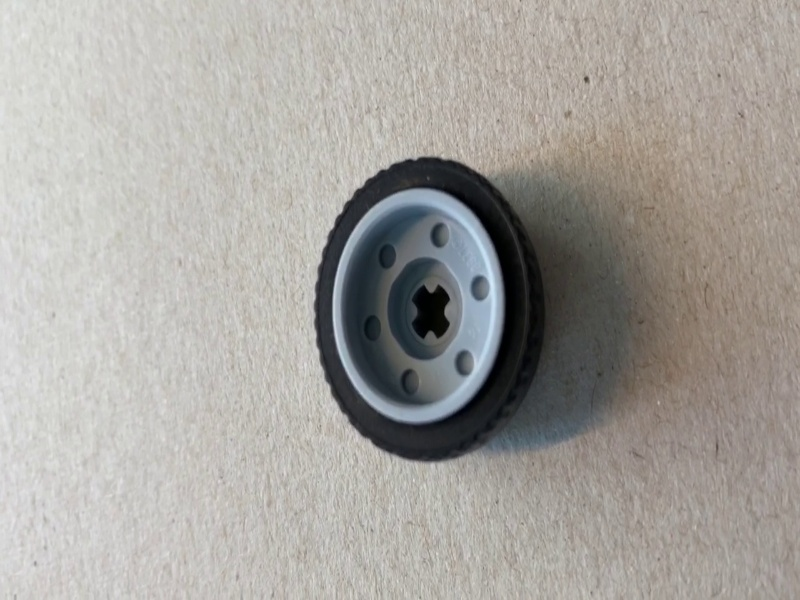tire: (313, 155, 549, 469)
